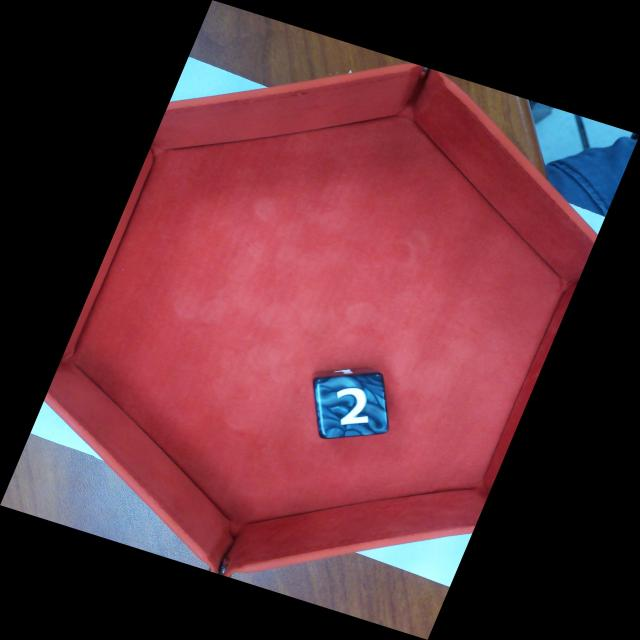dice: (316, 373, 391, 436)
